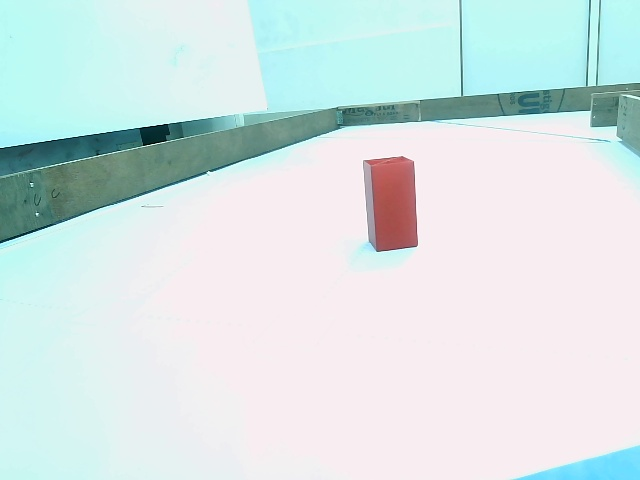red: (364, 161, 422, 248)
